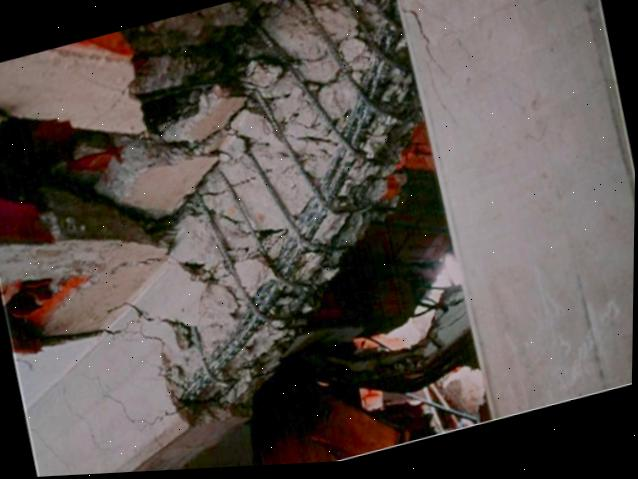exposed_rebar: (181, 0, 400, 400)
spalling: (115, 0, 422, 427)
